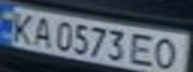0: (51, 19, 75, 52)
3: (106, 27, 130, 64)
5: (69, 21, 90, 56)
7: (87, 25, 109, 60)
A: (27, 16, 57, 48)
E: (127, 30, 160, 68)
K: (3, 10, 39, 44)
O: (148, 35, 184, 71)
